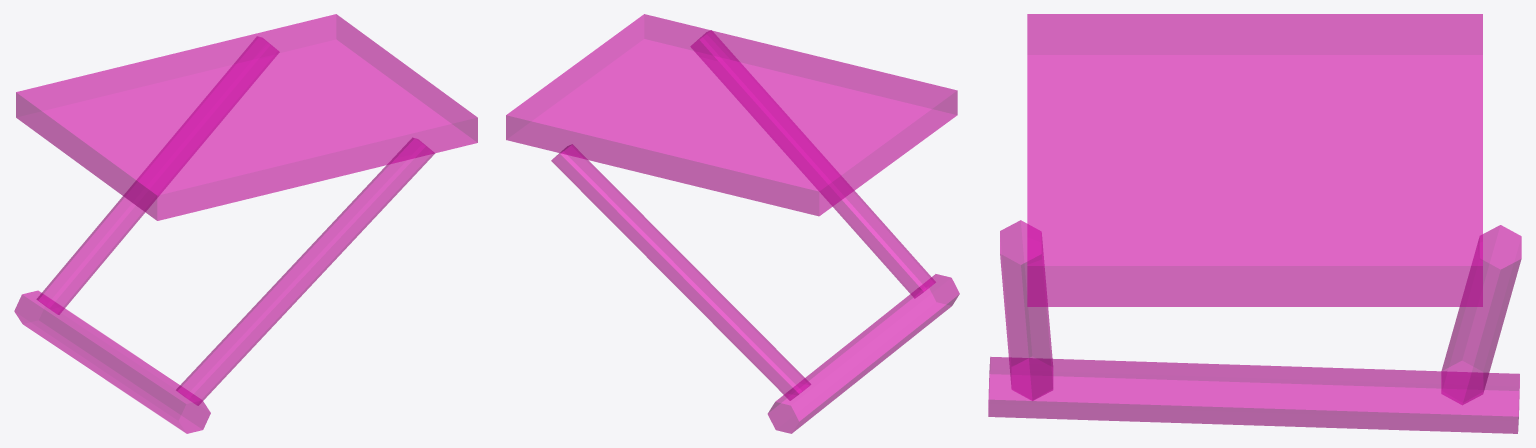
File: SM_Prop_Scaffolding_08_Collision.fbx
The picture shows the model from 3 angles, left to right: view 1: azimuth 30°, elevation 25°; view 2: azimuth 150°, elevation 25°; view 3: azimuth 270°, elevation 25°; orthographic projection. The views are drawn at different scales.
Visible parts, largest first — view 1: SM_Prop_Scaffolding_08_Collision; view 2: SM_Prop_Scaffolding_08_Collision; view 3: SM_Prop_Scaffolding_08_Collision.
Part boxes in pixels (x1,y1,x2,y2): SM_Prop_Scaffolding_08_Collision: [14, 14, 477, 433]; SM_Prop_Scaffolding_08_Collision: [506, 14, 959, 433]; SM_Prop_Scaffolding_08_Collision: [988, 14, 1521, 433].
Bounding box in the file's own units: 326 × 237 × 291.
